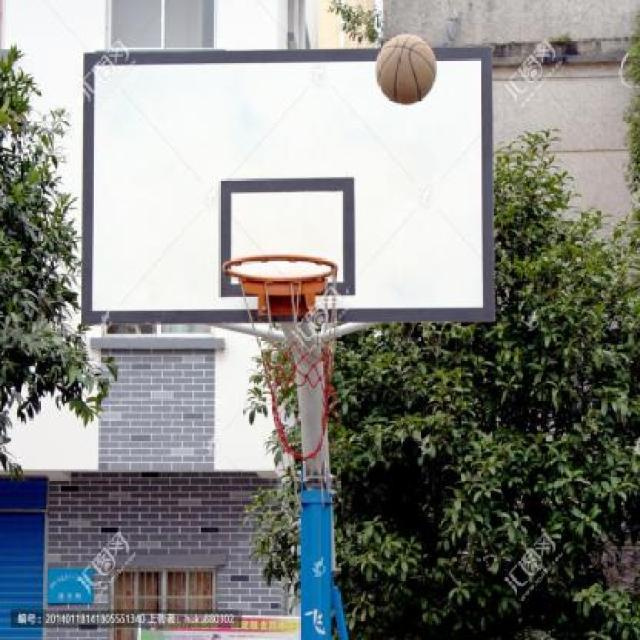basketball: (374, 32, 438, 104)
rim: (224, 255, 340, 389)
